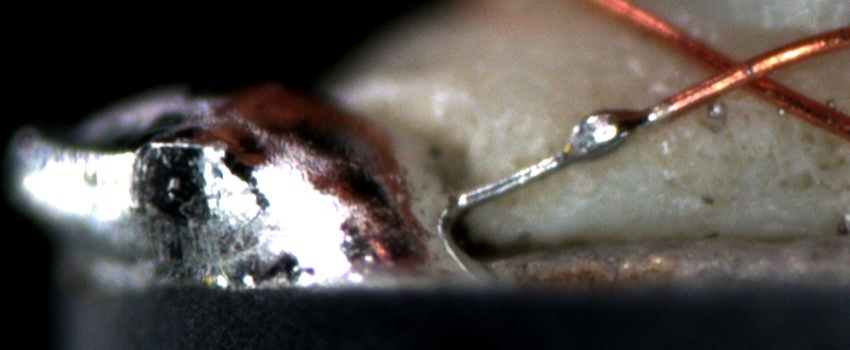CL: (692, 40, 792, 102)
TB: (564, 101, 646, 164)
TS: (458, 104, 667, 208)
TTCW: (449, 83, 700, 214)
